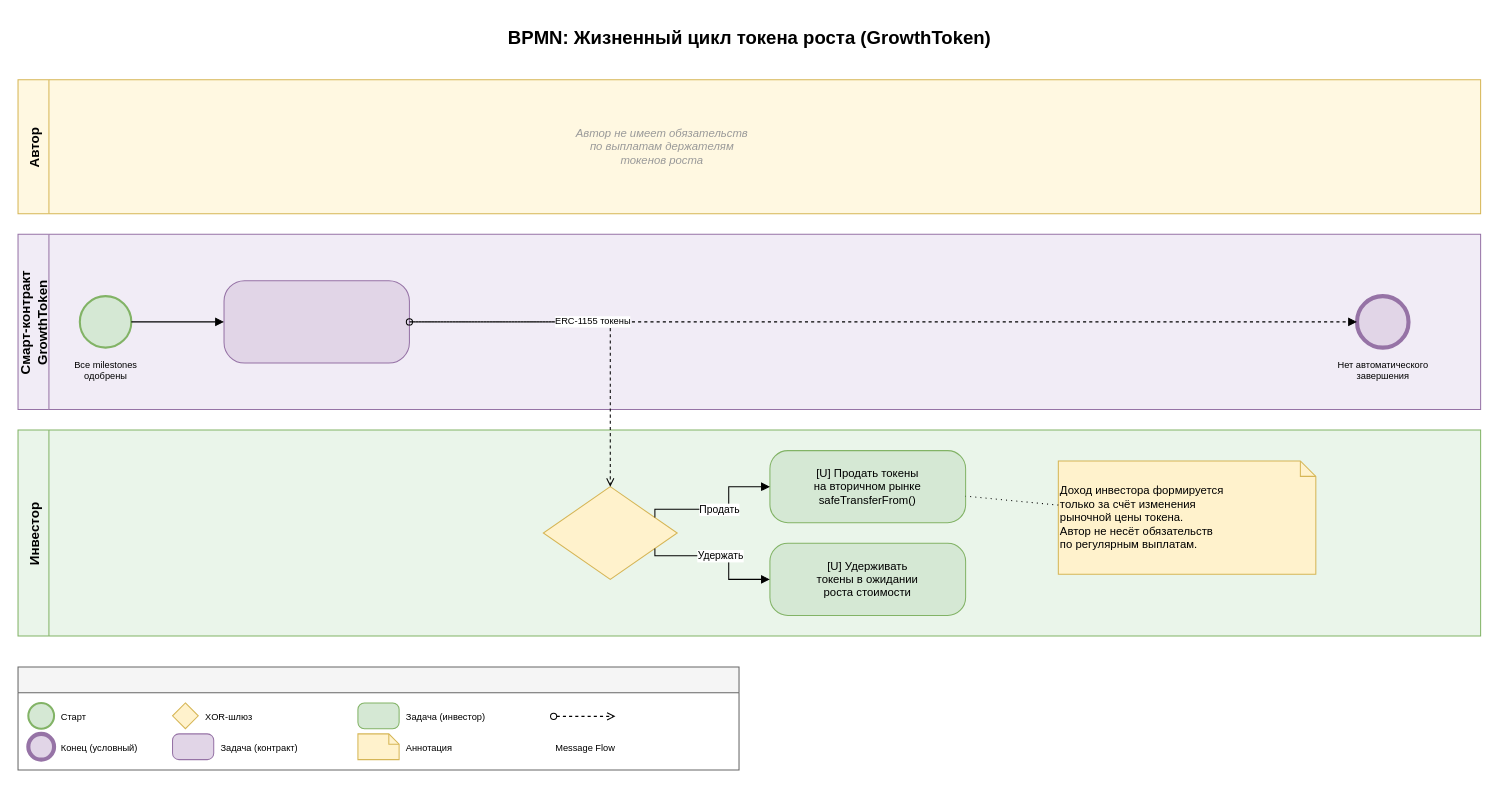
This 1499x788 diagram has some shape labels left out. The box of each missing label's shape, as (x1, y1, x2, y2) in pixels:
[S] Токены остаются у инвесторов (нет выплат): (223, 280, 409, 363)
Решение инвестора: (542, 486, 677, 579)
Условные обозначения: (17, 666, 739, 770)
